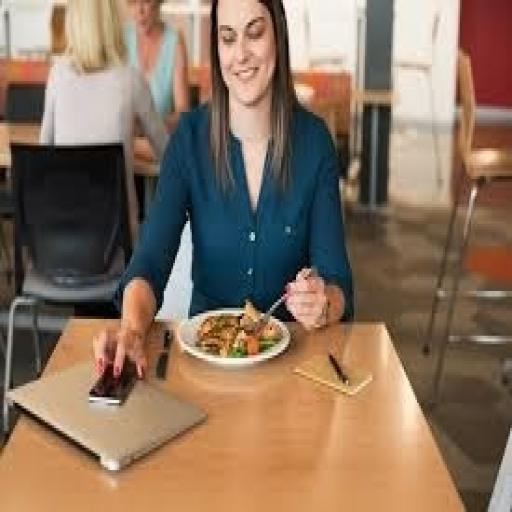eating: (91, 0, 354, 381)
